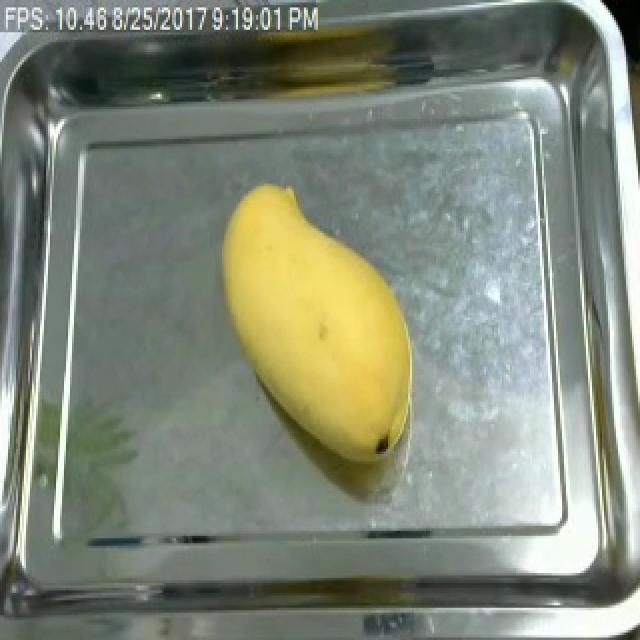fruit: (204, 171, 424, 481)
